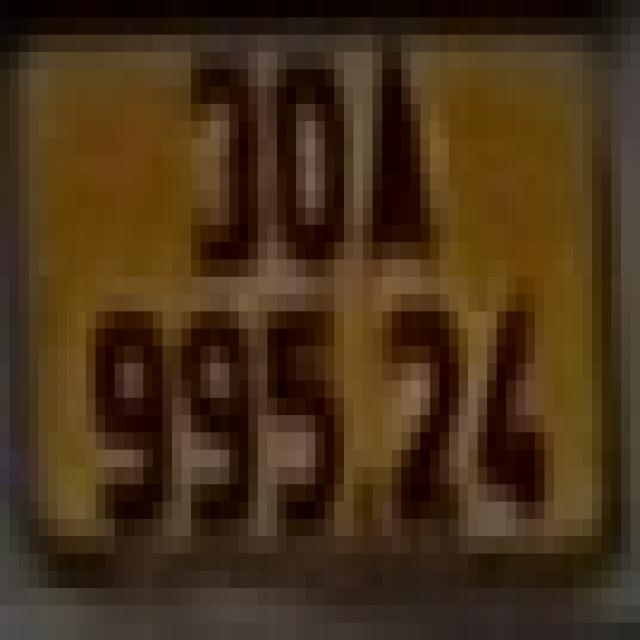0: (277, 52, 353, 259)
2: (382, 294, 468, 519)
4: (478, 259, 554, 536)
5: (267, 294, 344, 536)
9: (86, 294, 172, 536), (181, 294, 258, 536)
A: (363, 34, 449, 260)
